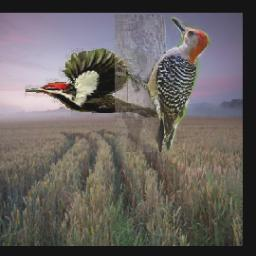Woodpecker: (115, 15, 215, 153), (25, 49, 169, 119)
